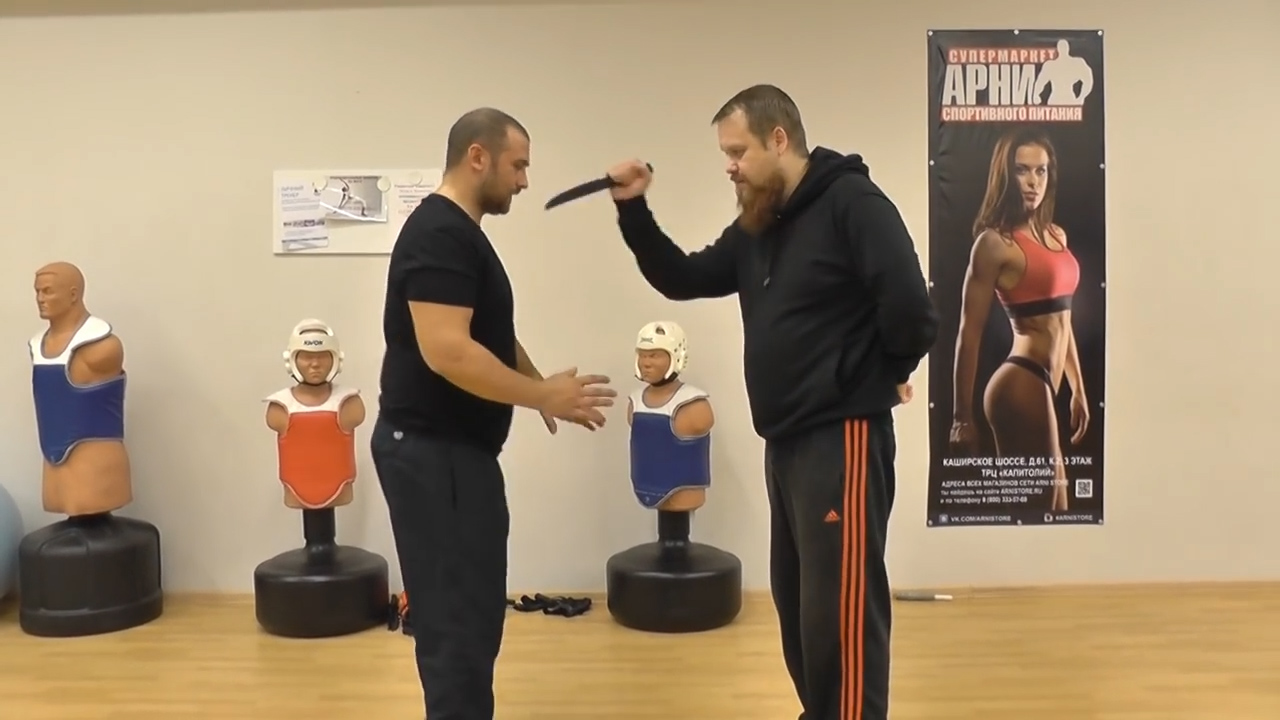knife: (534, 159, 656, 216)
